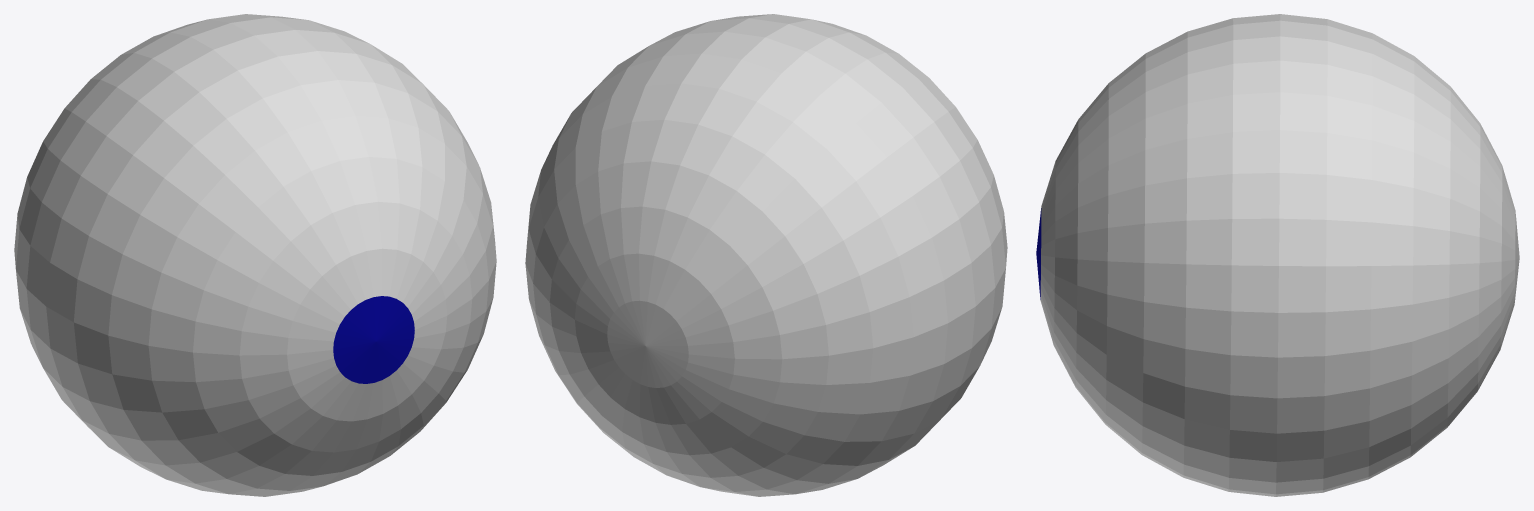
Rendered from eye.obj.
3 renders of one model, left to right at view 1: azimuth 30°, elevation 25°; view 2: azimuth 150°, elevation 25°; view 3: azimuth 270°, elevation 25°, orthographic.
Visible parts, largest first — view 1: Sphere; view 2: Sphere; view 3: Sphere.
Boxes of the visible parts, x1,y1,x2,y2 form: Sphere: (14,14,496,496); Sphere: (525,14,1007,496); Sphere: (1036,14,1519,496).
Size of the model in its own units: 620 by 620 by 620.
